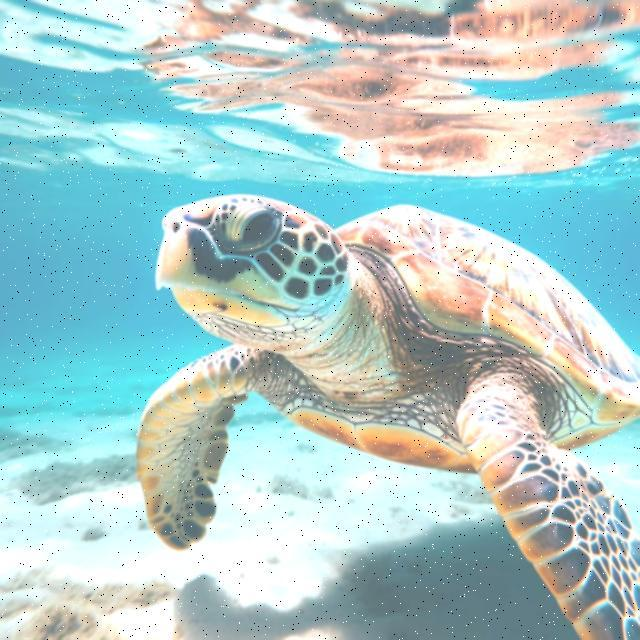tortoise: (136, 194, 640, 622)
